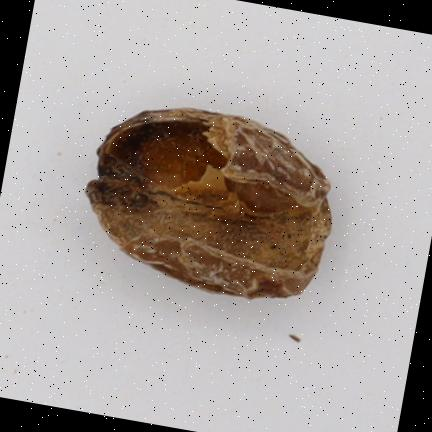full-black: (87, 110, 331, 298)
